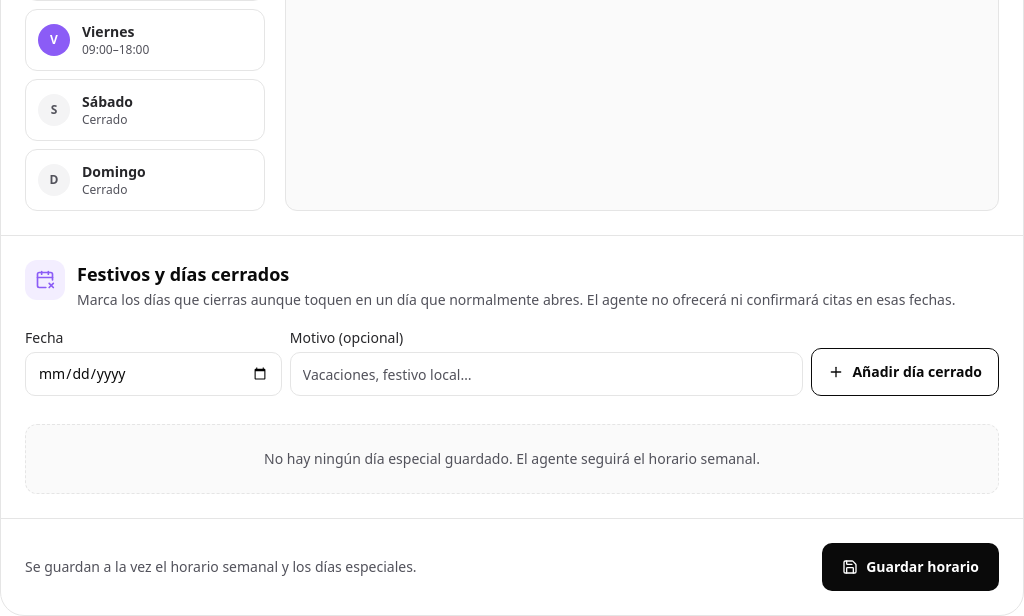
Test: BusinessHoursEditor — festivos y días cerrados › no deja añadir una fecha ya pasada
This screenshot has width=1024, height=616.
(page scrolled)
Step 1. Type "2026-10-05" into the date field labelled "Fecha" → [153, 374], box [25, 352, 282, 396]
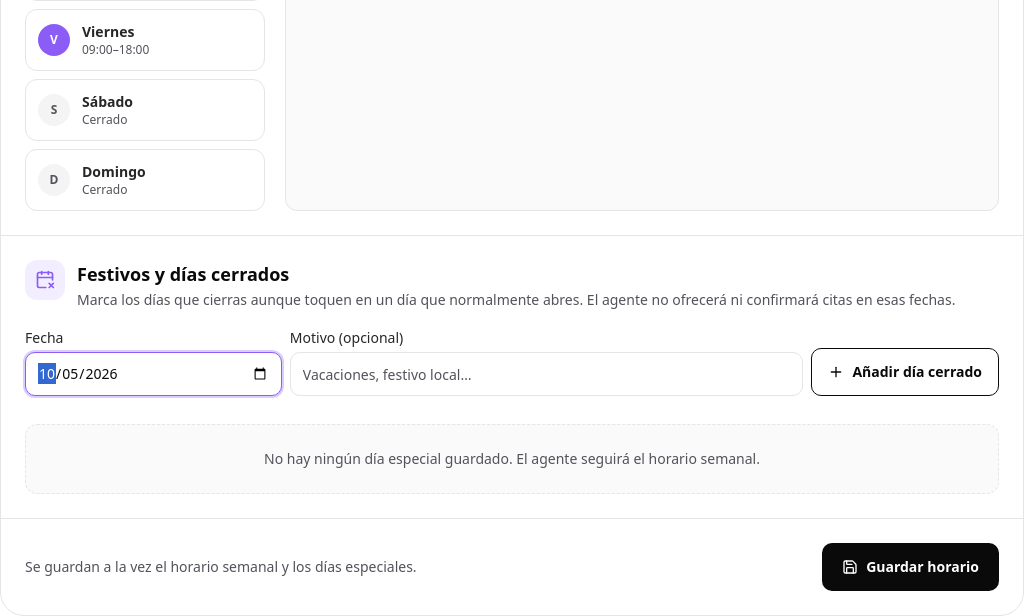
Step 2. Click the button "Añadir día cerrado" → [905, 372], box [811, 348, 999, 396]
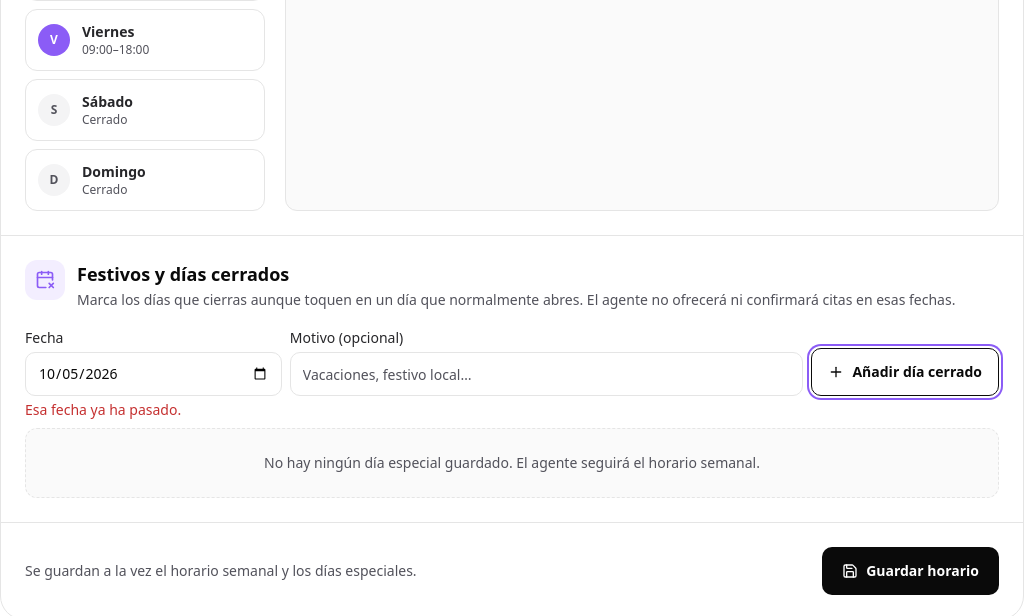
Now the message shows "Esa fecha ya ha pasado", box [25, 400, 181, 419]
